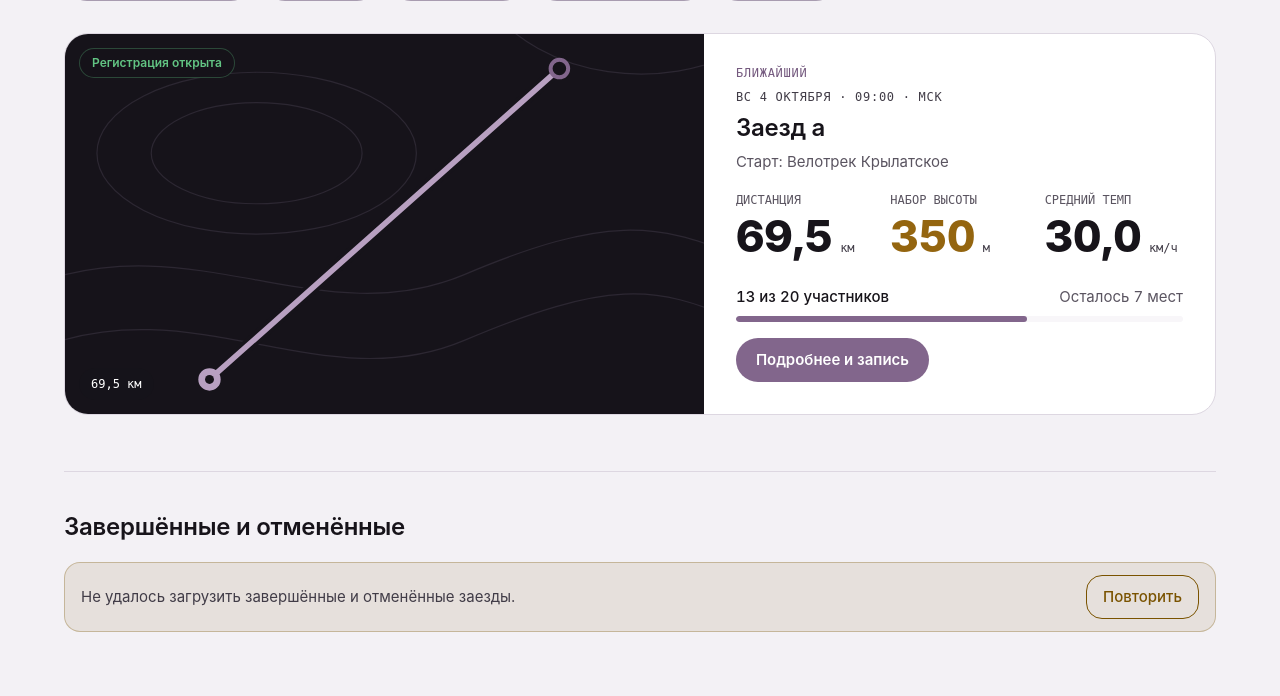
RideGrid (CR-153) › «Завершённые и отменённые» › shows a quiet notice with retry when only the archive fails
This screenshot has width=1280, height=696.
(page scrolled)
Click the button "Повторить". click: (1142, 597)
box: [1086,575,1199,619]
(page scrolled)
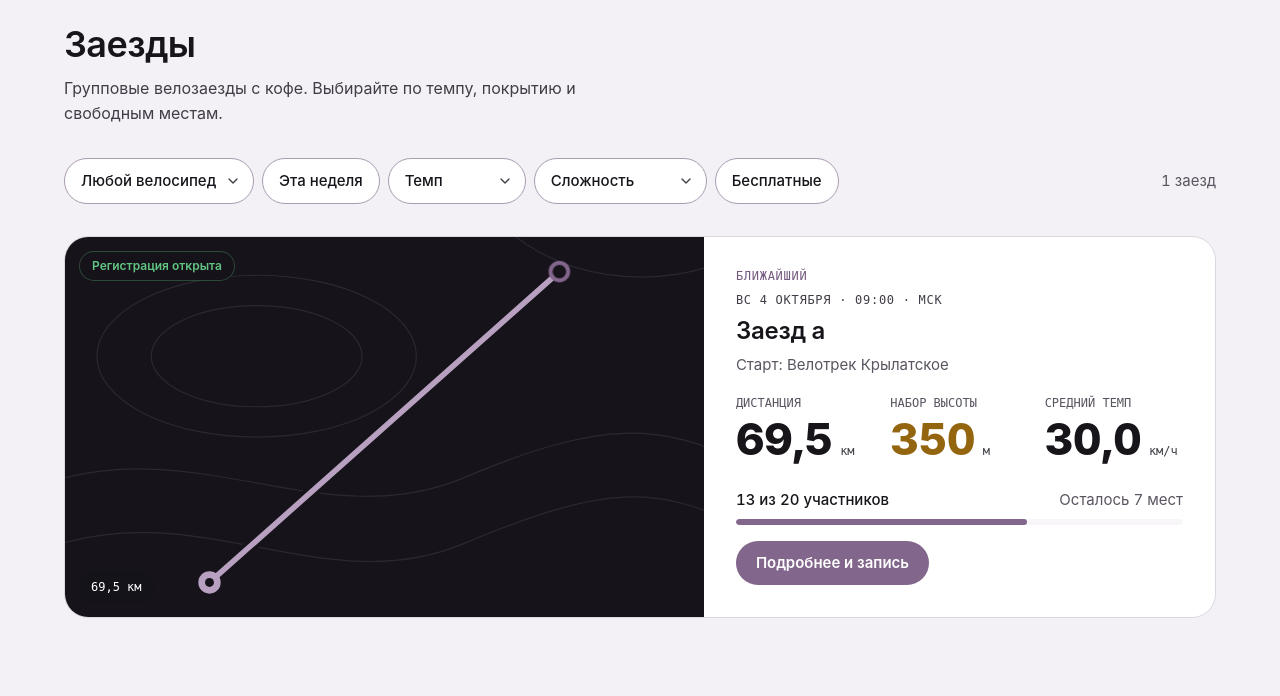
Now the text "Не удалось загрузить завершённые и отменённые заезды." is gone
